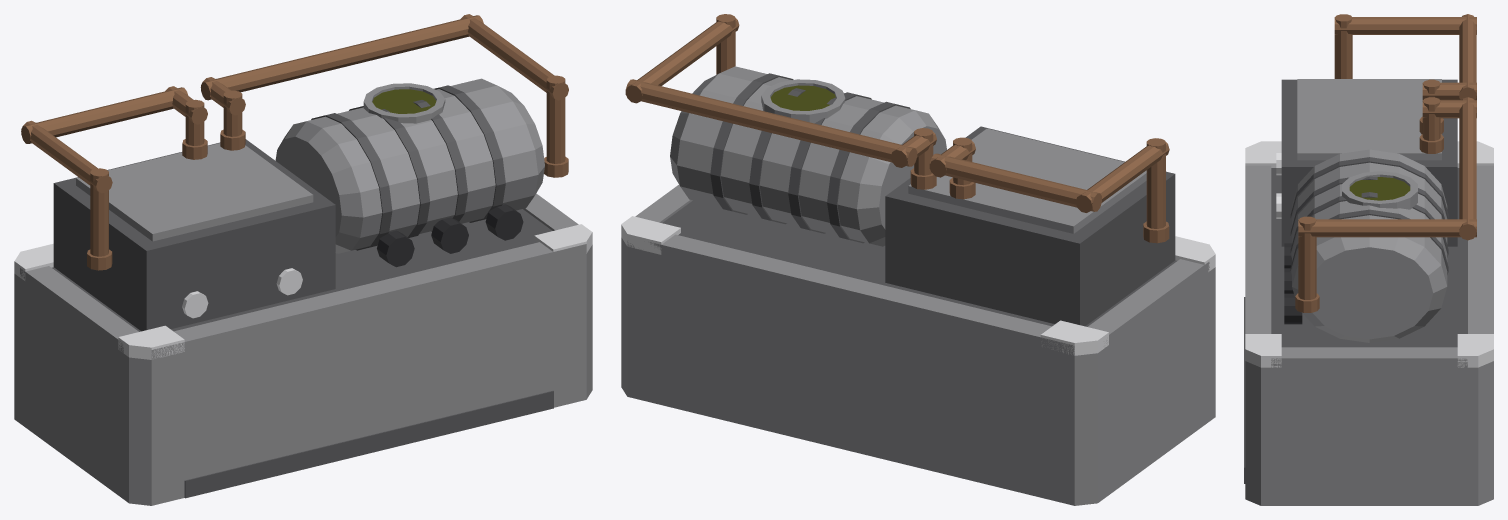
Rendered from vge_compact_refinery.obj.
The picture shows the model from 3 angles, left to right: view 1: azimuth 30°, elevation 25°; view 2: azimuth 150°, elevation 25°; view 3: azimuth 270°, elevation 25°; orthographic projection. The views are drawn at different scales.
Parts seen in each view (by area): view 1: vge_compact_refinery_0, vge_compact_refinery_11, vge_compact_refinery_15, vge_compact_refinery_14, vge_compact_refinery_2, vge_compact_refinery_10, vge_compact_refinery_1, vge_compact_refinery_34, vge_compact_refinery_4, vge_compact_refinery_27, vge_compact_refinery_35, vge_compact_refinery_26 (+19 smaller); view 2: vge_compact_refinery_0, vge_compact_refinery_11, vge_compact_refinery_15, vge_compact_refinery_3, vge_compact_refinery_14, vge_compact_refinery_1, vge_compact_refinery_34, vge_compact_refinery_4, vge_compact_refinery_27, vge_compact_refinery_35, vge_compact_refinery_26, vge_compact_refinery_24 (+12 smaller); view 3: vge_compact_refinery_0, vge_compact_refinery_15, vge_compact_refinery_14, vge_compact_refinery_1, vge_compact_refinery_11, vge_compact_refinery_2, vge_compact_refinery_5, vge_compact_refinery_3, vge_compact_refinery_35, vge_compact_refinery_34, vge_compact_refinery_26, vge_compact_refinery_36 (+19 smaller).
Part boxes in pixels (x1=…): vge_compact_refinery_0: x1=14, y1=244, x2=592, y2=505; vge_compact_refinery_11: x1=53, y1=139, x2=335, y2=331; vge_compact_refinery_15: x1=275, y1=78, x2=544, y2=253; vge_compact_refinery_14: x1=76, y1=143, x2=313, y2=241; vge_compact_refinery_2: x1=151, y1=242, x2=586, y2=359; vge_compact_refinery_10: x1=184, y1=390, x2=553, y2=498; vge_compact_refinery_1: x1=52, y1=209, x2=552, y2=331; vge_compact_refinery_34: x1=201, y1=15, x2=483, y2=100; vge_compact_refinery_4: x1=20, y1=266, x2=138, y2=352; vge_compact_refinery_27: x1=21, y1=87, x2=188, y2=143; vge_compact_refinery_35: x1=460, y1=14, x2=568, y2=100; vge_compact_refinery_26: x1=21, y1=120, x2=112, y2=193; vge_compact_refinery_0: x1=621, y1=237, x2=1215, y2=505; vge_compact_refinery_11: x1=885, y1=126, x2=1175, y2=326; vge_compact_refinery_15: x1=670, y1=66, x2=946, y2=246; vge_compact_refinery_3: x1=627, y1=234, x2=1074, y2=355; vge_compact_refinery_14: x1=908, y1=128, x2=1146, y2=233; vge_compact_refinery_1: x1=662, y1=200, x2=1176, y2=326; vge_compact_refinery_34: x1=625, y1=79, x2=917, y2=166; vge_compact_refinery_4: x1=1088, y1=259, x2=1209, y2=347; vge_compact_refinery_27: x1=929, y1=153, x2=1101, y2=211; vge_compact_refinery_35: x1=625, y1=18, x2=739, y2=103; vge_compact_refinery_26: x1=1075, y1=141, x2=1169, y2=212; vge_compact_refinery_24: x1=761, y1=79, x2=845, y2=123; vge_compact_refinery_0: x1=1245, y1=361, x2=1493, y2=505; vge_compact_refinery_15: x1=1292, y1=149, x2=1447, y2=342; vge_compact_refinery_14: x1=1297, y1=79, x2=1441, y2=160; vge_compact_refinery_1: x1=1271, y1=168, x2=1467, y2=347; vge_compact_refinery_11: x1=1281, y1=79, x2=1457, y2=246; vge_compact_refinery_2: x1=1245, y1=165, x2=1271, y2=333; vge_compact_refinery_5: x1=1271, y1=347, x2=1467, y2=367; vge_compact_refinery_3: x1=1468, y1=165, x2=1493, y2=333; vge_compact_refinery_35: x1=1298, y1=219, x2=1476, y2=237; vge_compact_refinery_34: x1=1459, y1=97, x2=1476, y2=240; vge_compact_refinery_26: x1=1334, y1=17, x2=1476, y2=34; vge_compact_refinery_36: x1=1298, y1=216, x2=1316, y2=299.
Size of the model in its own units: 1.96 by 1.2 by 0.965.
